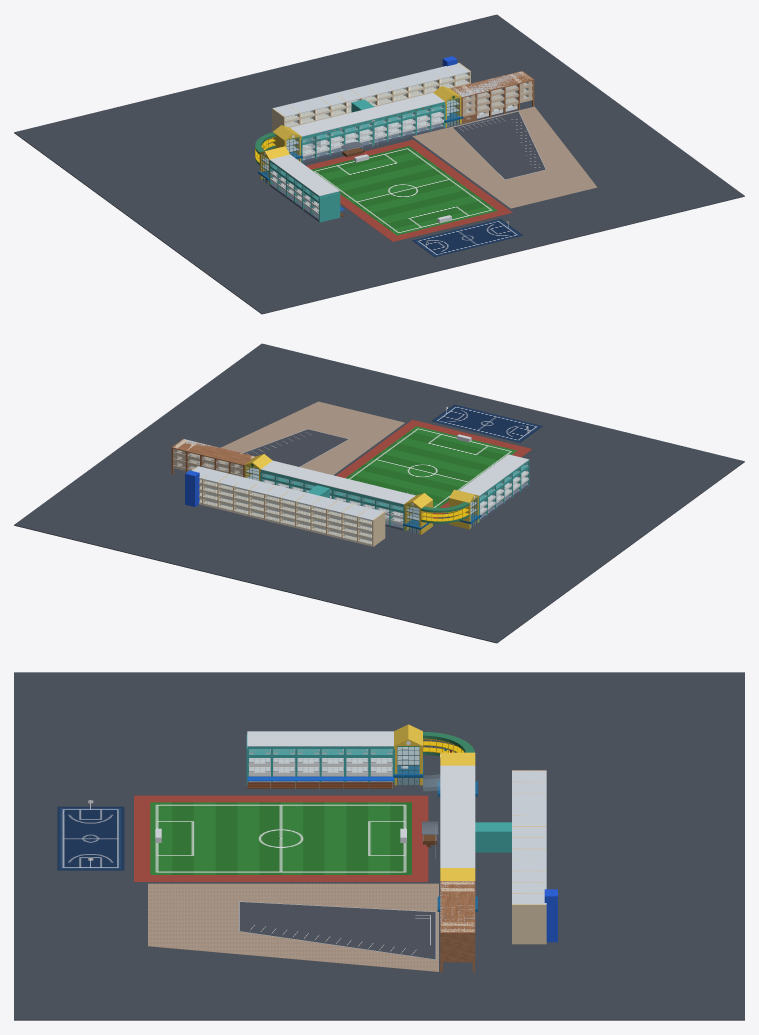
Rendered from 3D_place_keumbuk.glb.
The picture shows the model from 3 angles, top to bottom: view 1: azimuth 30°, elevation 25°; view 2: azimuth 150°, elevation 25°; view 3: azimuth 270°, elevation 25°; orthographic projection. The views are drawn at different scales.
Size of the model in its own units: 270 by 17.1 by 240.
Materials: 115 (13 with a texture image).
